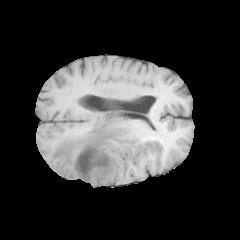glioma: (50, 117, 154, 183)
